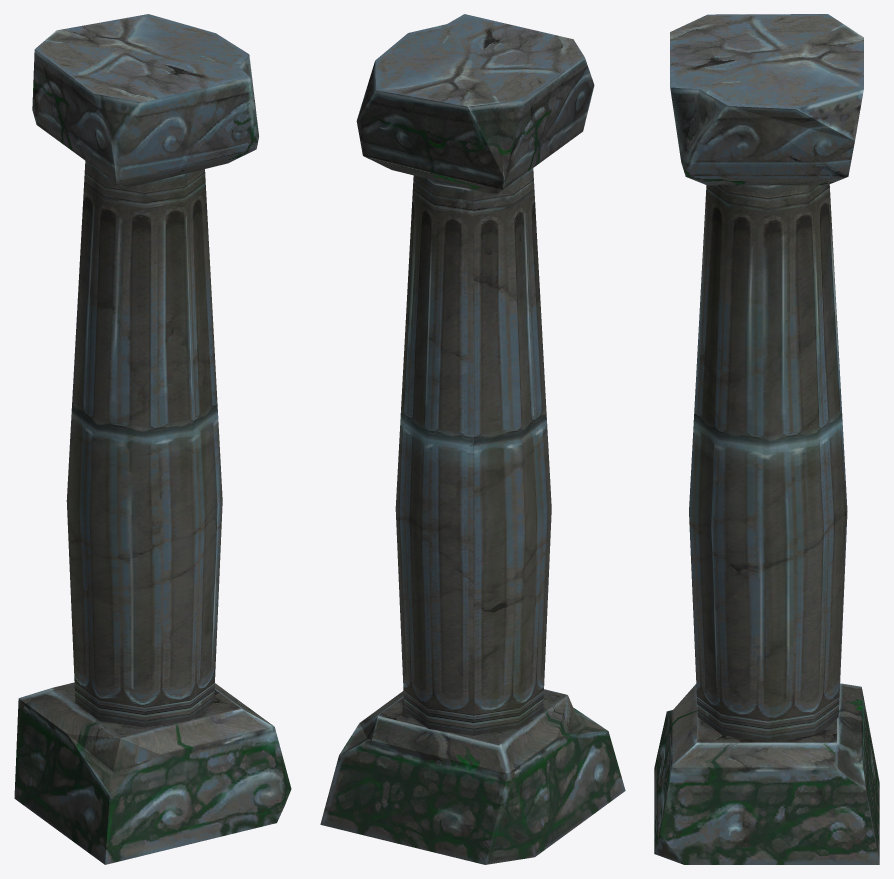
File: stemple_wall_convex_02.fbx
3 views of the same model, side by side, from view 1: azimuth 30°, elevation 25°; view 2: azimuth 150°, elevation 25°; view 3: azimuth 270°, elevation 25° (orthographic).
Visible parts, largest first — view 1: sunken_tileset/sunken_wall_convex02_mat; view 2: sunken_tileset/sunken_wall_convex02_mat; view 3: sunken_tileset/sunken_wall_convex02_mat.
Part boxes in pixels (bbox=[...]): sunken_tileset/sunken_wall_convex02_mat: bbox=[14, 14, 291, 864]; sunken_tileset/sunken_wall_convex02_mat: bbox=[320, 14, 625, 864]; sunken_tileset/sunken_wall_convex02_mat: bbox=[654, 14, 879, 864].
Size of the model in its own units: 2.26 by 8.32 by 2.23.
